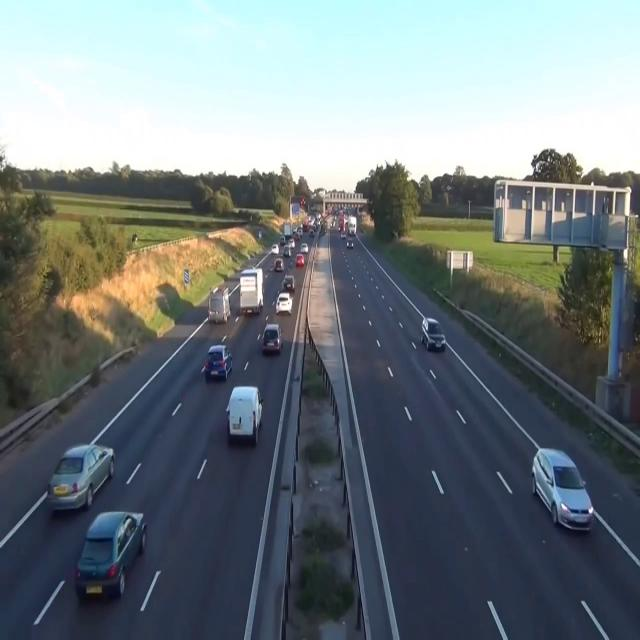belum terisi: (527, 432, 600, 546), (69, 501, 153, 598), (40, 431, 118, 517), (222, 375, 271, 452), (199, 336, 238, 390), (418, 311, 452, 362), (235, 266, 265, 318), (206, 278, 234, 328), (258, 317, 284, 360), (276, 289, 295, 318)
